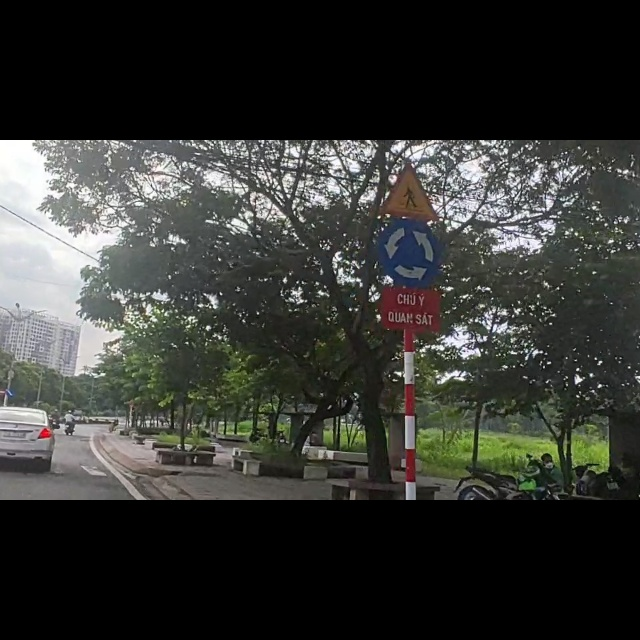bien_hieu_lenh: (373, 137, 448, 261), (375, 36, 443, 145), (7, 442, 14, 457), (1, 444, 6, 454)
